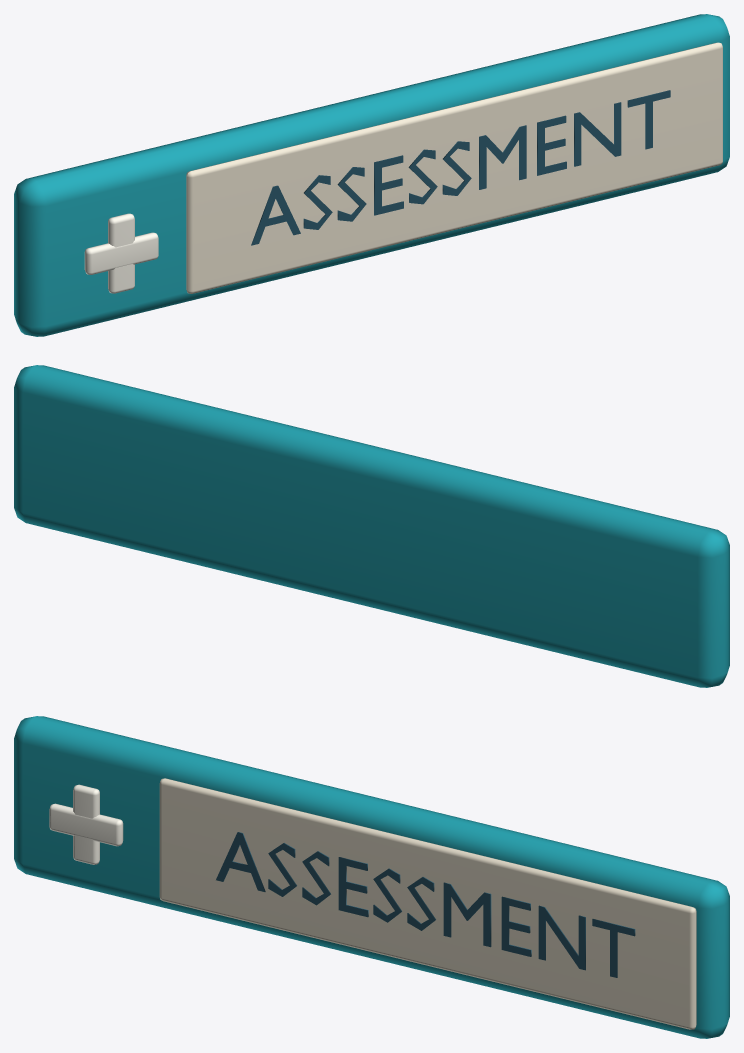
Rendered from Clinical_Sign_Assessment.glb.
3 renders of one model, top to bottom at view 1: azimuth 30°, elevation 25°; view 2: azimuth 150°, elevation 25°; view 3: azimuth 330°, elevation 25°, orthographic.
Parts seen in each view (by area): view 1: Clinical_Sign_Assessment_cream, Clinical_Sign_Assessment_teal, Clinical_Sign_Assessment_navy, Clinical_Sign_Assessment_paper; view 2: Clinical_Sign_Assessment_teal; view 3: Clinical_Sign_Assessment_cream, Clinical_Sign_Assessment_teal, Clinical_Sign_Assessment_navy, Clinical_Sign_Assessment_paper.
Part boxes in pixels (x1,y1,x2,y2): Clinical_Sign_Assessment_cream: (186, 42, 722, 293); Clinical_Sign_Assessment_teal: (14, 14, 729, 336); Clinical_Sign_Assessment_navy: (251, 90, 670, 245); Clinical_Sign_Assessment_paper: (84, 213, 158, 293); Clinical_Sign_Assessment_teal: (14, 365, 729, 687); Clinical_Sign_Assessment_cream: (159, 778, 696, 1029); Clinical_Sign_Assessment_teal: (14, 716, 729, 1038); Clinical_Sign_Assessment_navy: (216, 832, 635, 977); Clinical_Sign_Assessment_paper: (49, 784, 123, 864).
Bounding box in the file's own units: 1.48 × 0.31 × 0.116.
